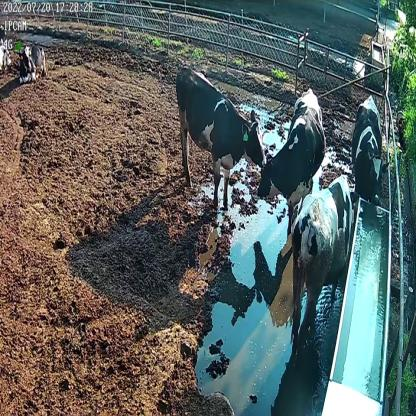cow: (174, 63, 266, 208), (258, 82, 326, 249), (289, 173, 361, 321), (351, 92, 391, 212), (19, 40, 48, 83)
